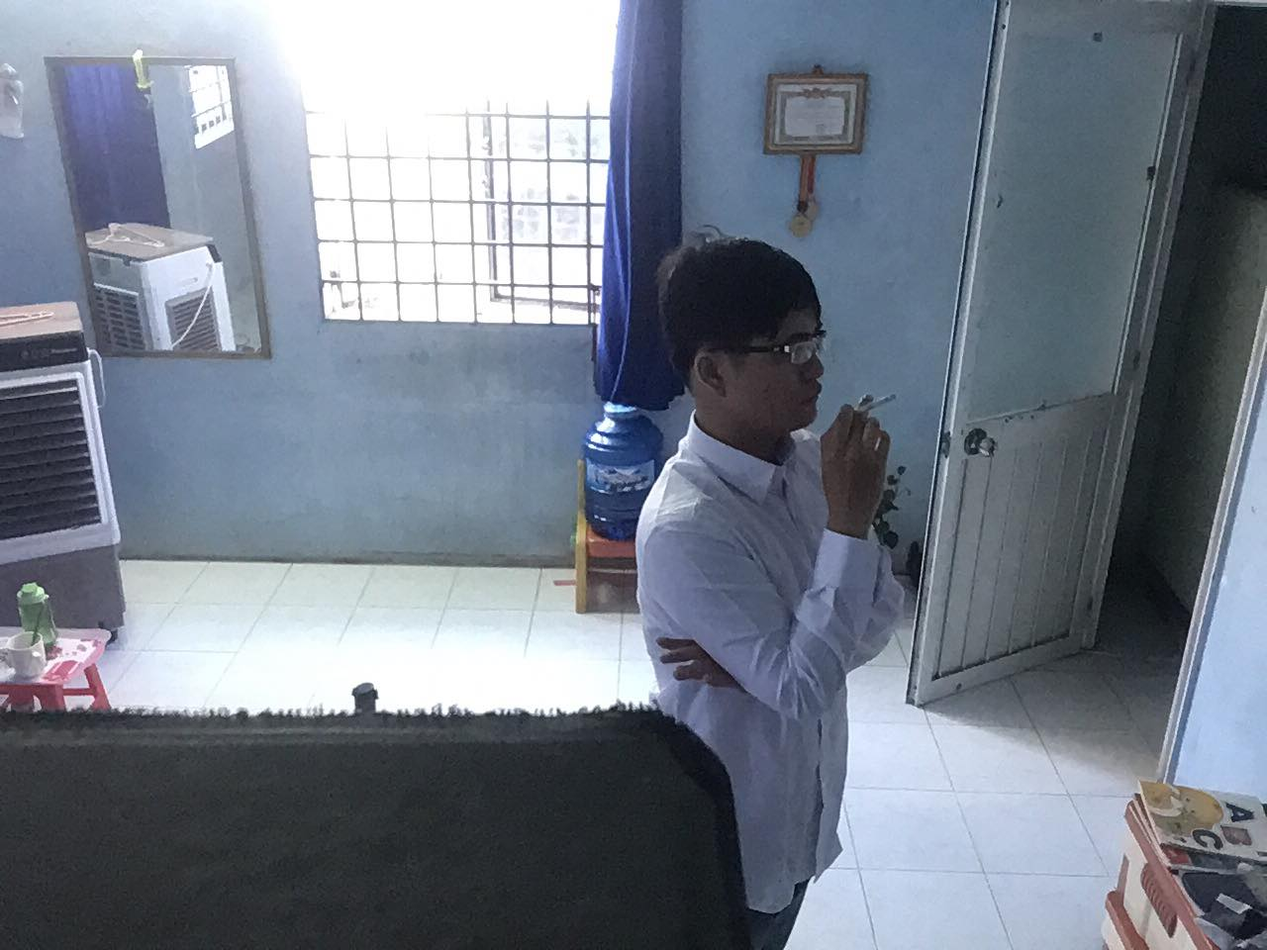cigarette: (847, 388, 905, 418)
person: (625, 217, 919, 950)
